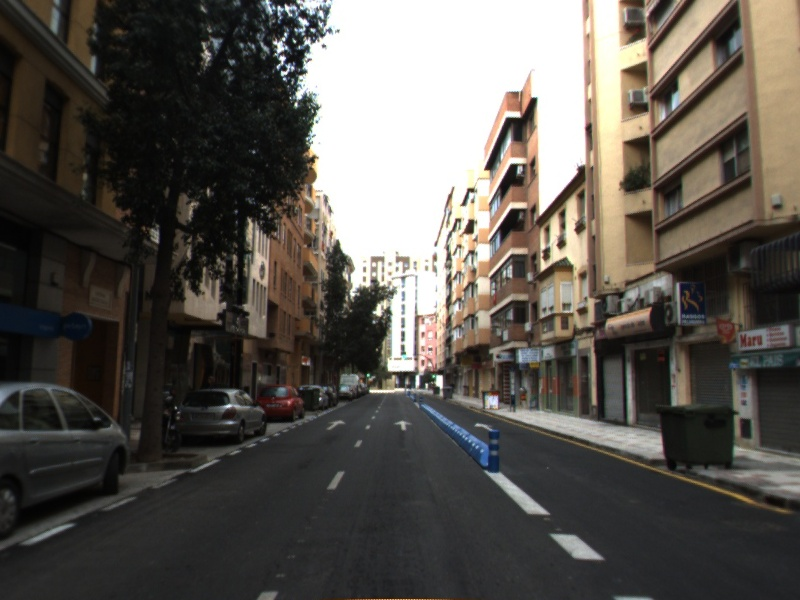STRAIGHT: (392, 418, 414, 432), (325, 418, 347, 431), (473, 421, 495, 432)
